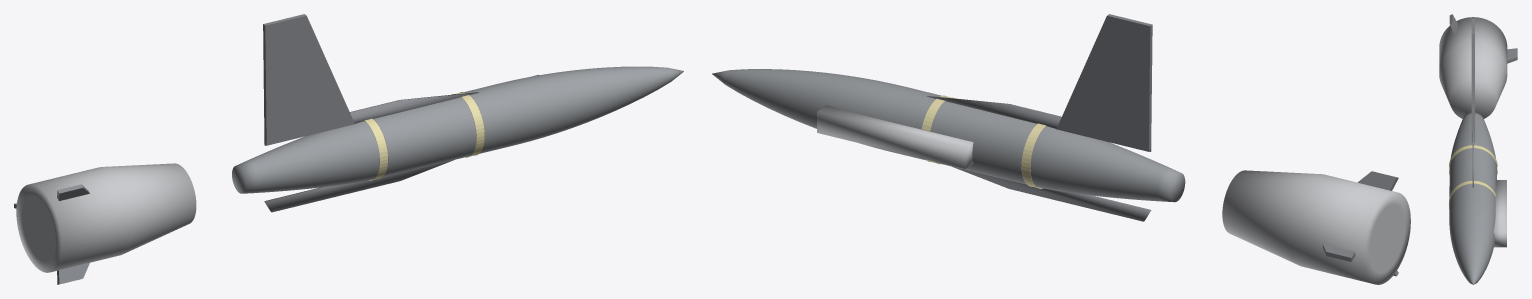
File: US_STRAT_RegulusII_LOD0.fbx
3 renders of one model, left to right at view 1: azimuth 30°, elevation 25°; view 2: azimuth 150°, elevation 25°; view 3: azimuth 270°, elevation 25°, orthographic. The views are drawn at different scales.
Visible parts, largest first — view 1: WPN_US_STRAT_RegulusII_LOD0_Body, WPN_US_STRAT_RegulusII_LOD0_Tail, WPN_US_STRAT_RegulusII_LOD0_Wings, WPN_US_STRAT_RegulusII_LOD0_Detail, WPN_US_STRAT_RegulusII_LOD0_Marking, WPN_US_STRAT_RegulusII_LOD0_Fins; view 2: WPN_US_STRAT_RegulusII_LOD0_Body, WPN_US_STRAT_RegulusII_LOD0_Tail, WPN_US_STRAT_RegulusII_LOD0_Wings, WPN_US_STRAT_RegulusII_LOD0_Detail, WPN_US_STRAT_RegulusII_LOD0_Marking, WPN_US_STRAT_RegulusII_LOD0_Fins; view 3: WPN_US_STRAT_RegulusII_LOD0_Body, WPN_US_STRAT_RegulusII_LOD0_Tail, WPN_US_STRAT_RegulusII_LOD0_Detail, WPN_US_STRAT_RegulusII_LOD0_Wings, WPN_US_STRAT_RegulusII_LOD0_Marking, WPN_US_STRAT_RegulusII_LOD0_Fins.
Part boxes in pixels (left/top/right/bottom): WPN_US_STRAT_RegulusII_LOD0_Body: left=232, top=66, right=683, bottom=193; WPN_US_STRAT_RegulusII_LOD0_Tail: left=16, top=163, right=196, bottom=272; WPN_US_STRAT_RegulusII_LOD0_Wings: left=263, top=14, right=354, bottom=145; WPN_US_STRAT_RegulusII_LOD0_Detail: left=264, top=74, right=539, bottom=212; WPN_US_STRAT_RegulusII_LOD0_Marking: left=364, top=92, right=484, bottom=180; WPN_US_STRAT_RegulusII_LOD0_Fins: left=14, top=184, right=89, bottom=284; WPN_US_STRAT_RegulusII_LOD0_Body: left=712, top=69, right=1185, bottom=202; WPN_US_STRAT_RegulusII_LOD0_Tail: left=1222, top=170, right=1410, bottom=284; WPN_US_STRAT_RegulusII_LOD0_Wings: left=1056, top=14, right=1152, bottom=151; WPN_US_STRAT_RegulusII_LOD0_Detail: left=817, top=96, right=1151, bottom=221; WPN_US_STRAT_RegulusII_LOD0_Marking: left=921, top=95, right=1046, bottom=188; WPN_US_STRAT_RegulusII_LOD0_Fins: left=1322, top=171, right=1398, bottom=276; WPN_US_STRAT_RegulusII_LOD0_Body: left=1449, top=112, right=1496, bottom=284; WPN_US_STRAT_RegulusII_LOD0_Tail: left=1439, top=17, right=1507, bottom=118; WPN_US_STRAT_RegulusII_LOD0_Detail: left=1472, top=131, right=1506, bottom=247; WPN_US_STRAT_RegulusII_LOD0_Wings: left=1471, top=18, right=1474, bottom=142; WPN_US_STRAT_RegulusII_LOD0_Marking: left=1449, top=145, right=1497, bottom=208; WPN_US_STRAT_RegulusII_LOD0_Fins: left=1449, top=14, right=1517, bottom=63.
Size of the model in its own units: 17.5 by 2.45 by 5.09.
